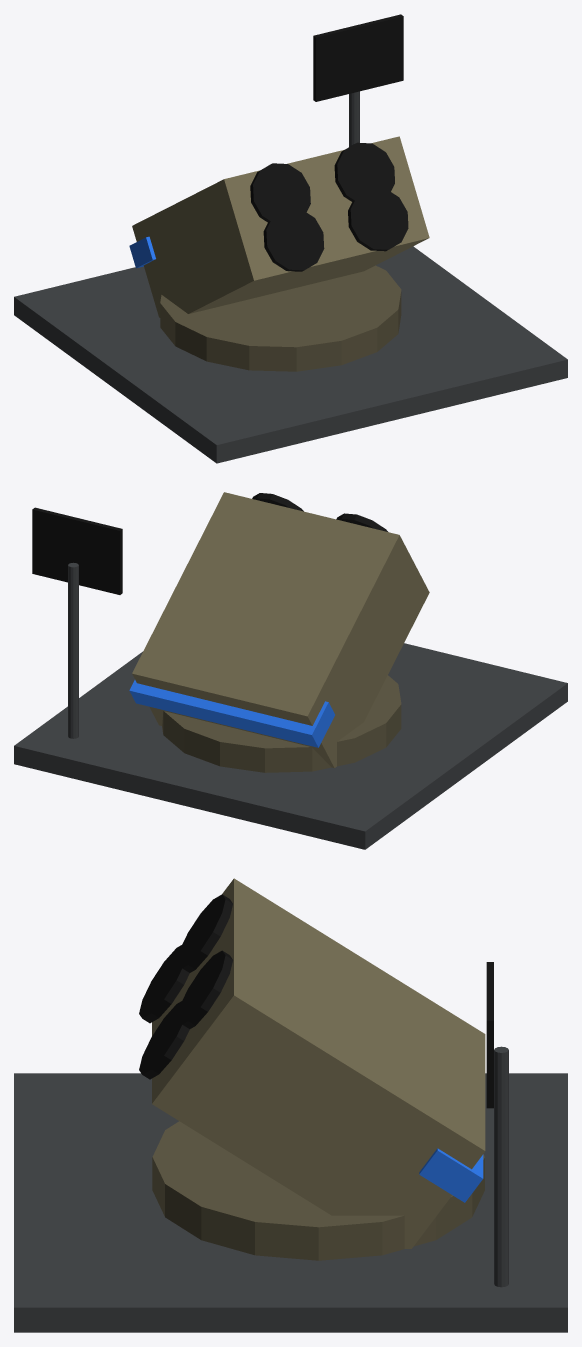
File: us_sam_site.glb
The picture shows the model from 3 angles, top to bottom: view 1: azimuth 30°, elevation 25°; view 2: azimuth 150°, elevation 25°; view 3: azimuth 270°, elevation 25°; orthographic projection. The views are drawn at different scales.
Visible parts, largest first — view 1: base, barrel, turret, radar_panel, tube_3, tube_2, tube_0, tube_1, radar_mast, team_band; view 2: barrel, base, turret, radar_panel, team_band, radar_mast; view 3: base, barrel, turret, radar_mast, tube_2, tube_3, team_band, tube_1, tube_0, radar_panel.
Boxes of the visible parts, left/top/right/bottom form: base: left=14, top=246, right=567, bottom=463; barrel: left=132, top=136, right=429, bottom=317; turret: left=160, top=265, right=401, bottom=371; radar_panel: left=313, top=14, right=403, bottom=101; tube_3: left=334, top=142, right=394, bottom=204; tube_2: left=250, top=163, right=310, bottom=225; tube_0: left=263, top=208, right=324, bottom=271; tube_1: left=348, top=188, right=408, bottom=251; radar_mast: left=349, top=91, right=359, bottom=146; team_band: left=129, top=236, right=155, bottom=268; barrel: left=132, top=492, right=429, bottom=767; base: left=14, top=643, right=567, bottom=849; turret: left=162, top=675, right=401, bottom=772; radar_panel: left=32, top=507, right=122, bottom=594; team_band: left=129, top=680, right=334, bottom=747; radar_mast: left=68, top=562, right=78, bottom=738; base: left=14, top=1073, right=567, bottom=1332; barrel: left=152, top=878, right=485, bottom=1248; turret: left=152, top=1121, right=484, bottom=1260; radar_mast: left=494, top=1046, right=508, bottom=1287; tube_2: left=175, top=894, right=232, bottom=972; tube_3: left=177, top=950, right=232, bottom=1028; team_band: left=419, top=1148, right=483, bottom=1202; tube_1: left=139, top=1001, right=189, bottom=1079; tube_0: left=139, top=945, right=189, bottom=1023; radar_panel: left=486, top=962, right=493, bottom=1108.
Size of the model in its own units: 6.15 by 3.8 by 6.
